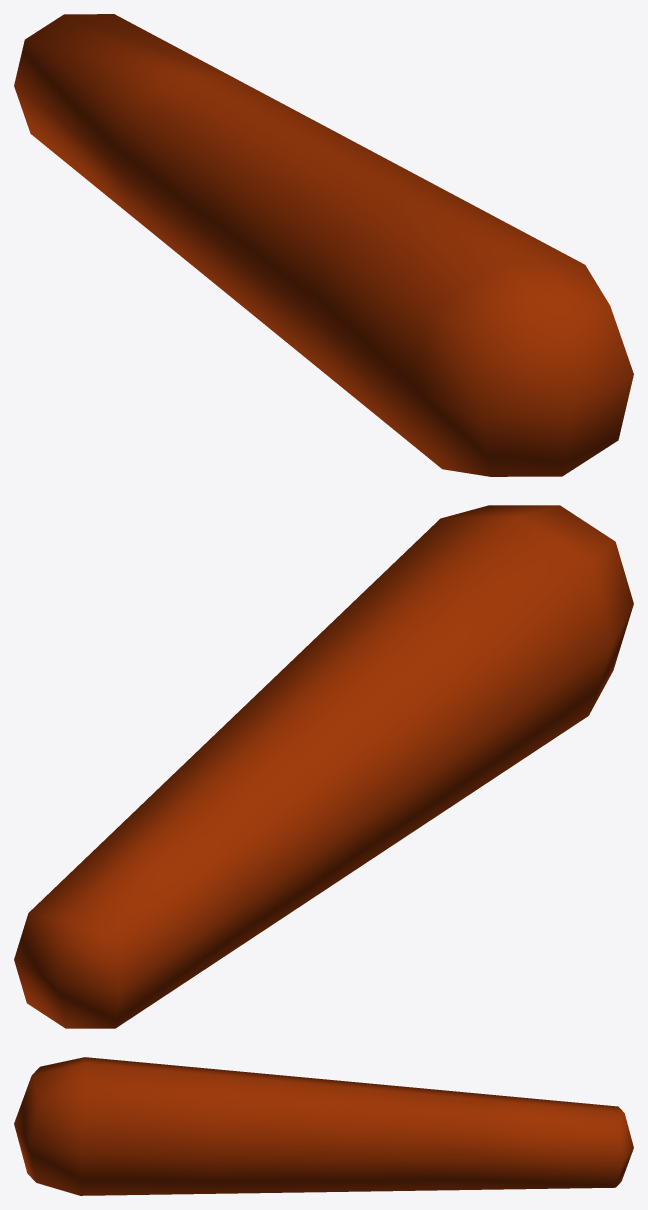
Rendered from LowerArmRight.dae.
The picture shows the model from 3 angles, top to bottom: view 1: azimuth 30°, elevation 25°; view 2: azimuth 150°, elevation 25°; view 3: azimuth 270°, elevation 25°; orthographic projection. The views are drawn at different scales.
Visible parts, largest first — view 1: LowerArm_R; view 2: LowerArm_R; view 3: LowerArm_R.
Boxes of the visible parts, x1=… form: LowerArm_R: x1=14, y1=14, x2=633, y2=476; LowerArm_R: x1=14, y1=505, x2=633, y2=1028; LowerArm_R: x1=14, y1=1057, x2=633, y2=1195.
Bounding box in the file's own units: 0.0617 × 0.2791 × 0.0616.
